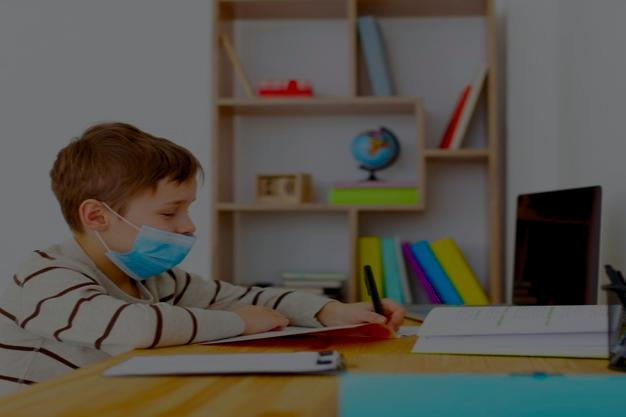mask_weared_incorrect: (53, 119, 202, 283)
